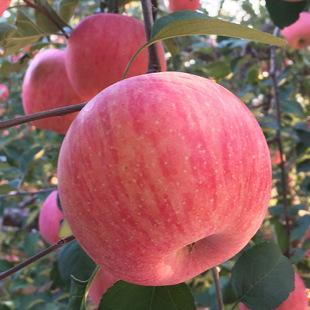apple: (51, 70, 271, 285), (67, 15, 147, 92)
